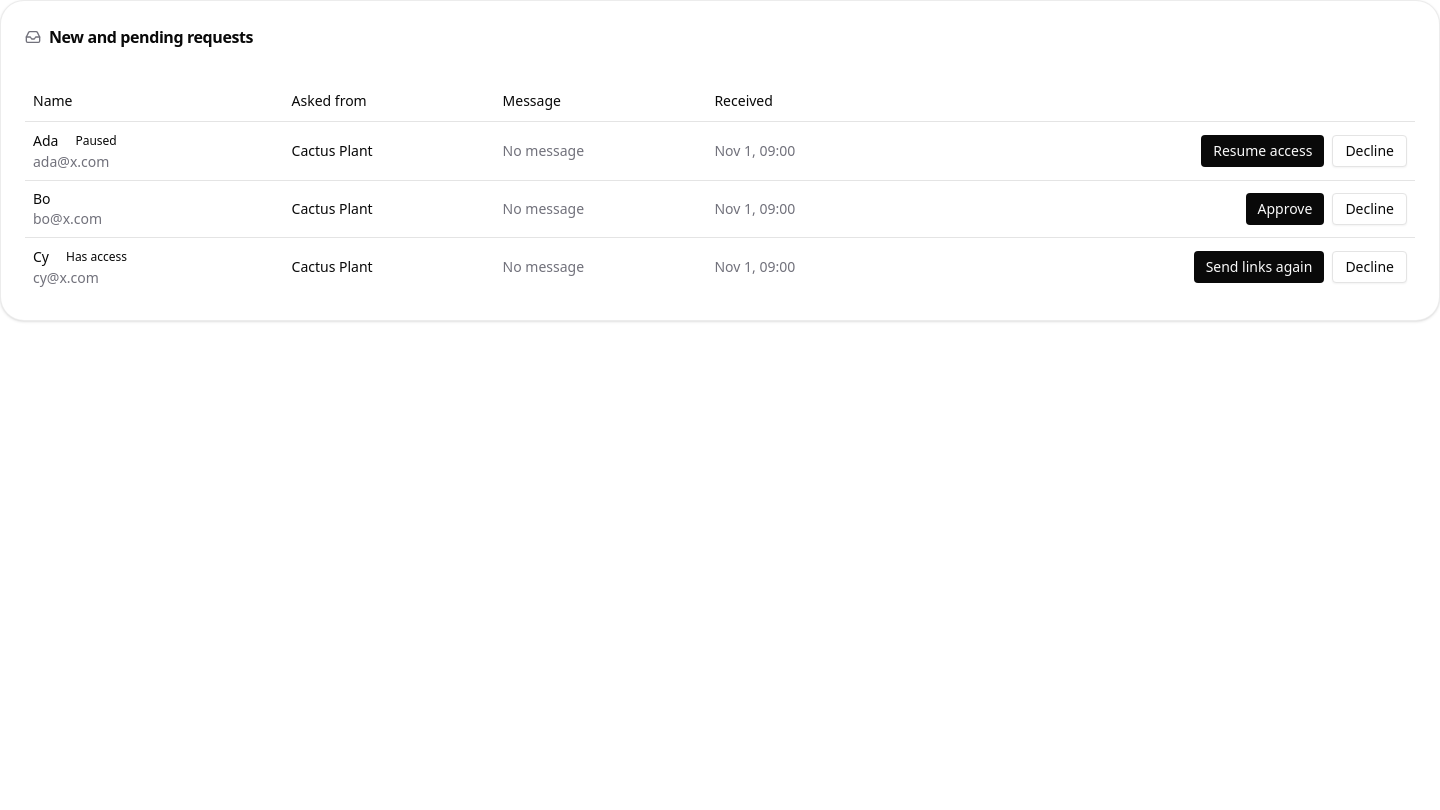
Test: RequestsTable › Lost their password? switches to making a new one
The width and height of the screenshot is (1440, 810).
Click the button "Resume access": (1263, 150) [1201,134,1324,166]
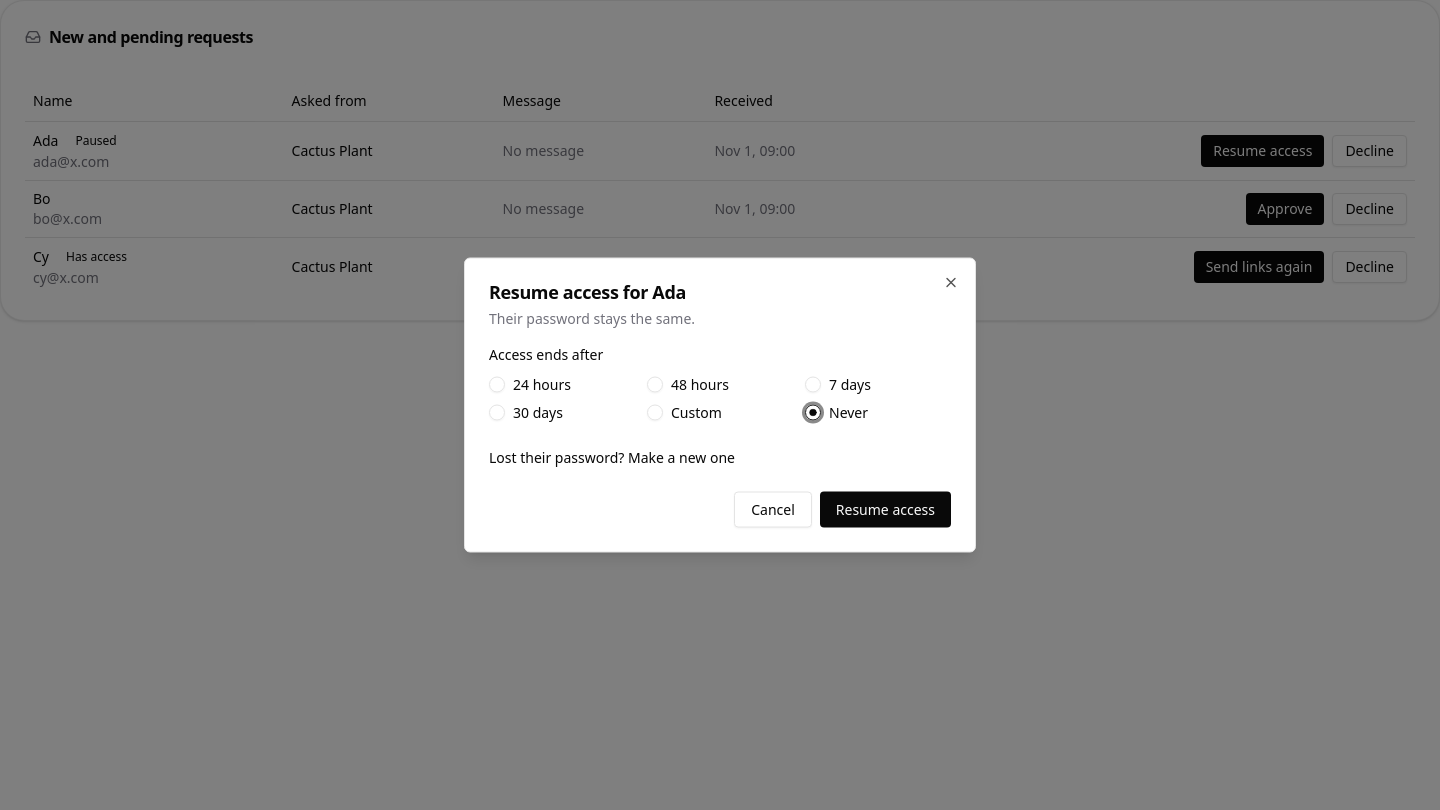
Click the button "Lost their password? Make a new one": (612, 458) [489,448,735,468]
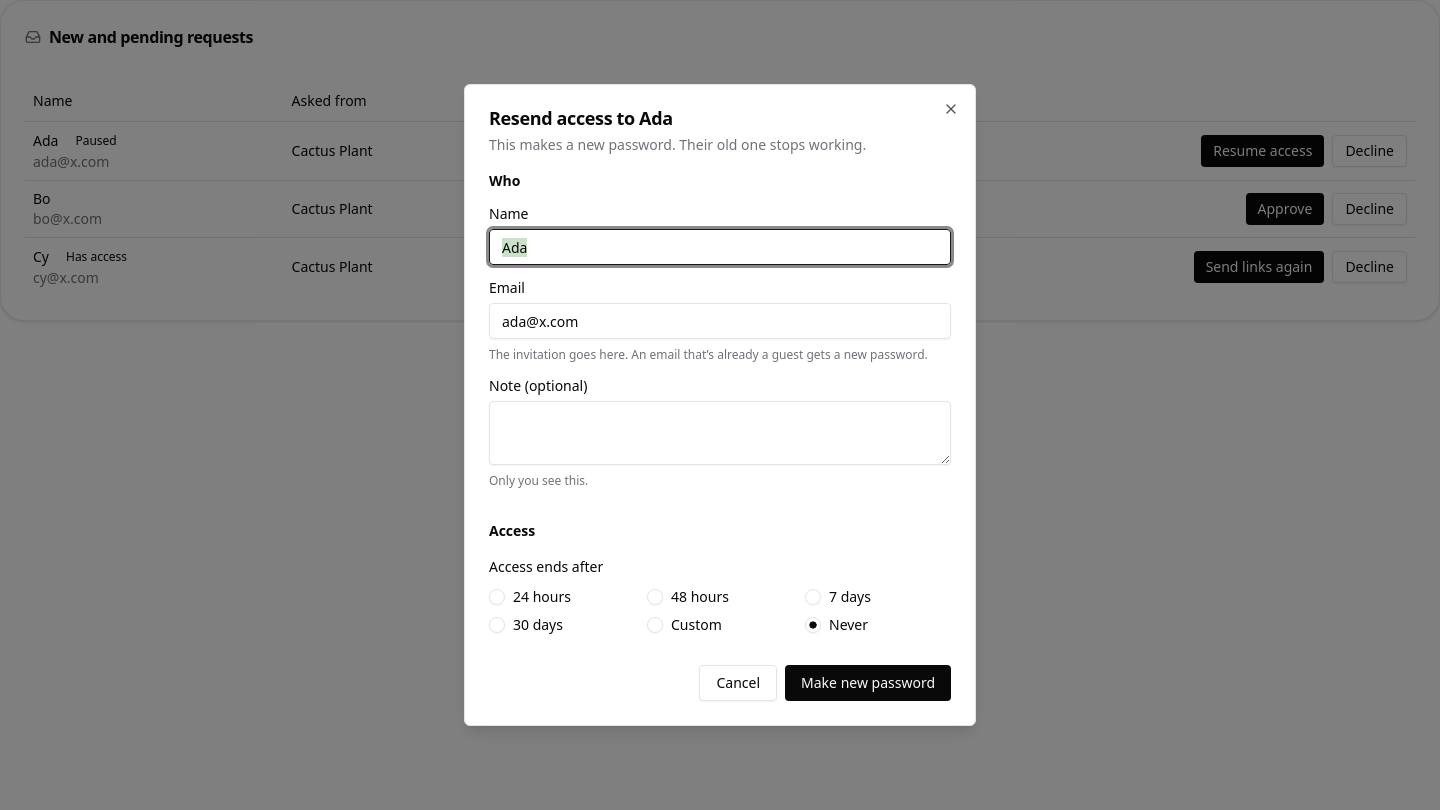
Expected: the heading "Resend access to Ada" is shown, [489,106,673,130]
Expected: the dialog shows "This makes a new password. Their old one stops working.", [489,135,866,154]
